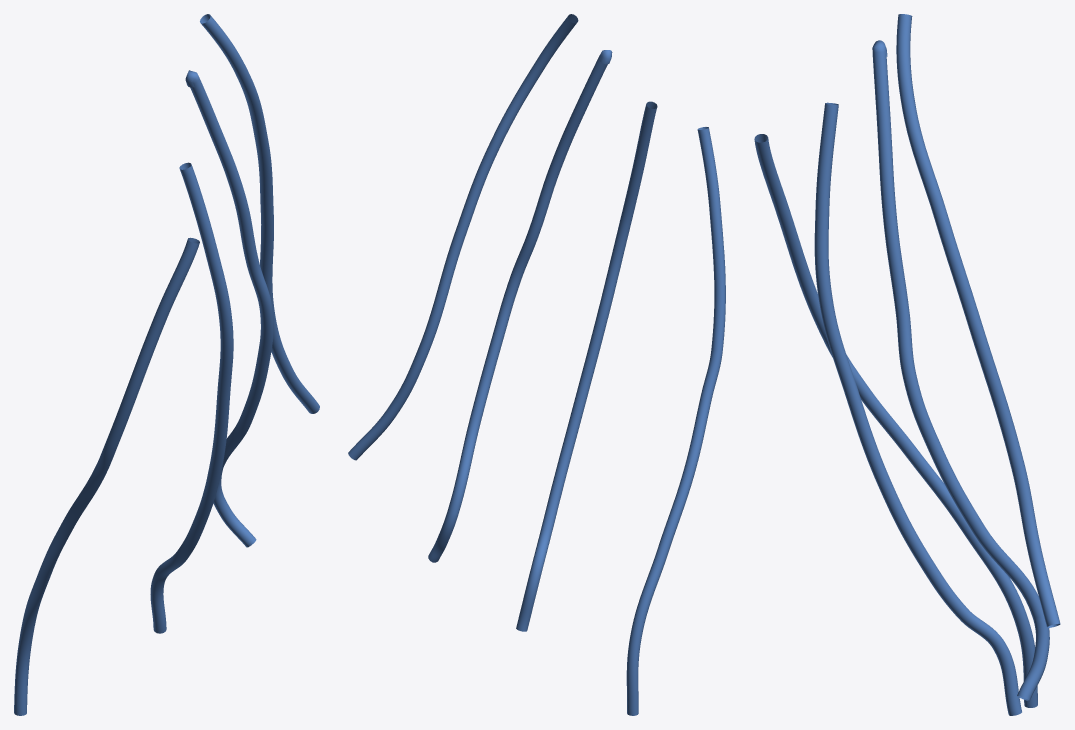
The picture shows the model from 3 angles, left to right: view 1: azimuth 30°, elevation 25°; view 2: azimuth 150°, elevation 25°; view 3: azimuth 270°, elevation 25°; orthographic projection. The views are drawn at different scales.
Visible parts, largest first — view 1: 左侧跖足底静脉; view 2: 左侧跖足底静脉; view 3: 左侧跖足底静脉.
Boxes of the visible parts, x1,y1,x2,y2 form: 左侧跖足底静脉: (14, 14, 319, 715); 左侧跖足底静脉: (348, 14, 725, 715); 左侧跖足底静脉: (754, 14, 1060, 715).
Size of the model in its own units: 0.059 by 0.1243 by 0.0454.
